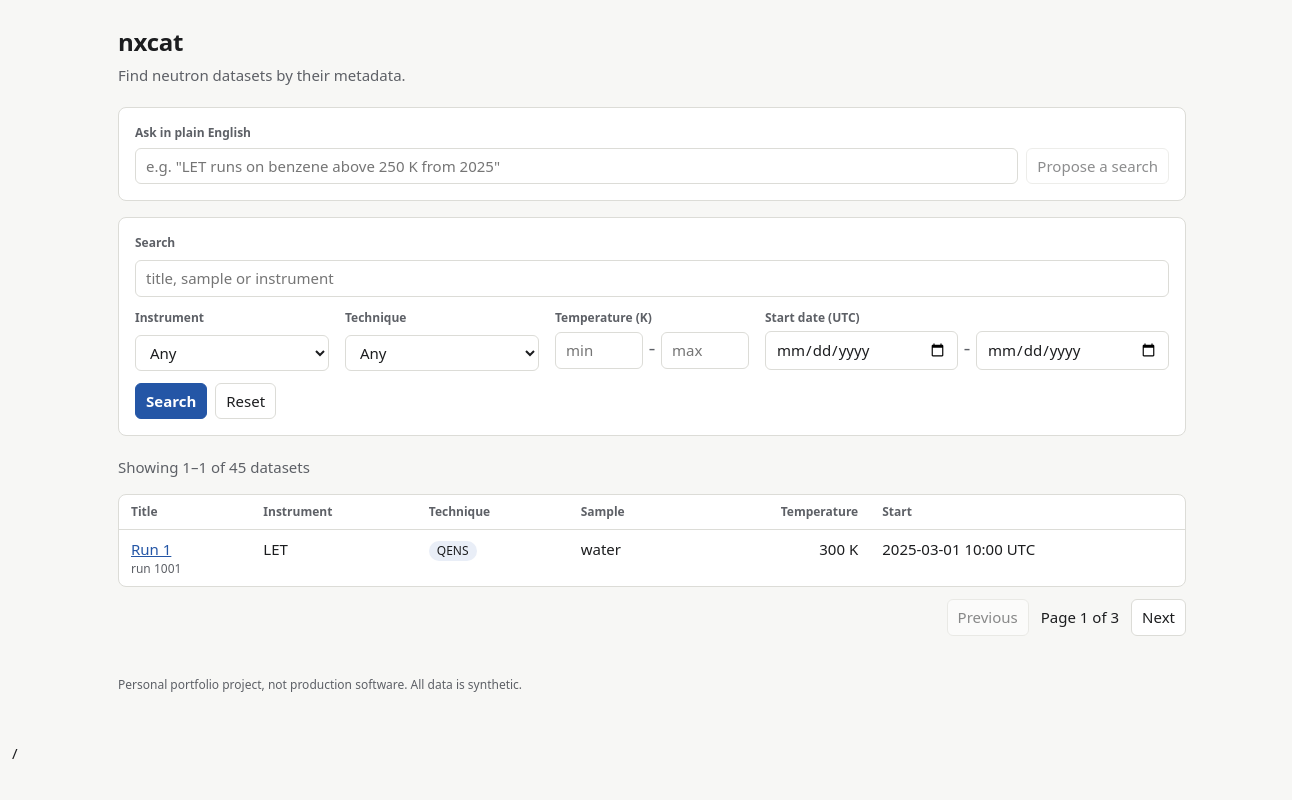
SearchPage › puts applied filters and the page in the address
Expected: the table is shown, [119,494,1185,586]
Type "water" into the search field labelled "Search" at [652, 278], box [135,260,1169,296]
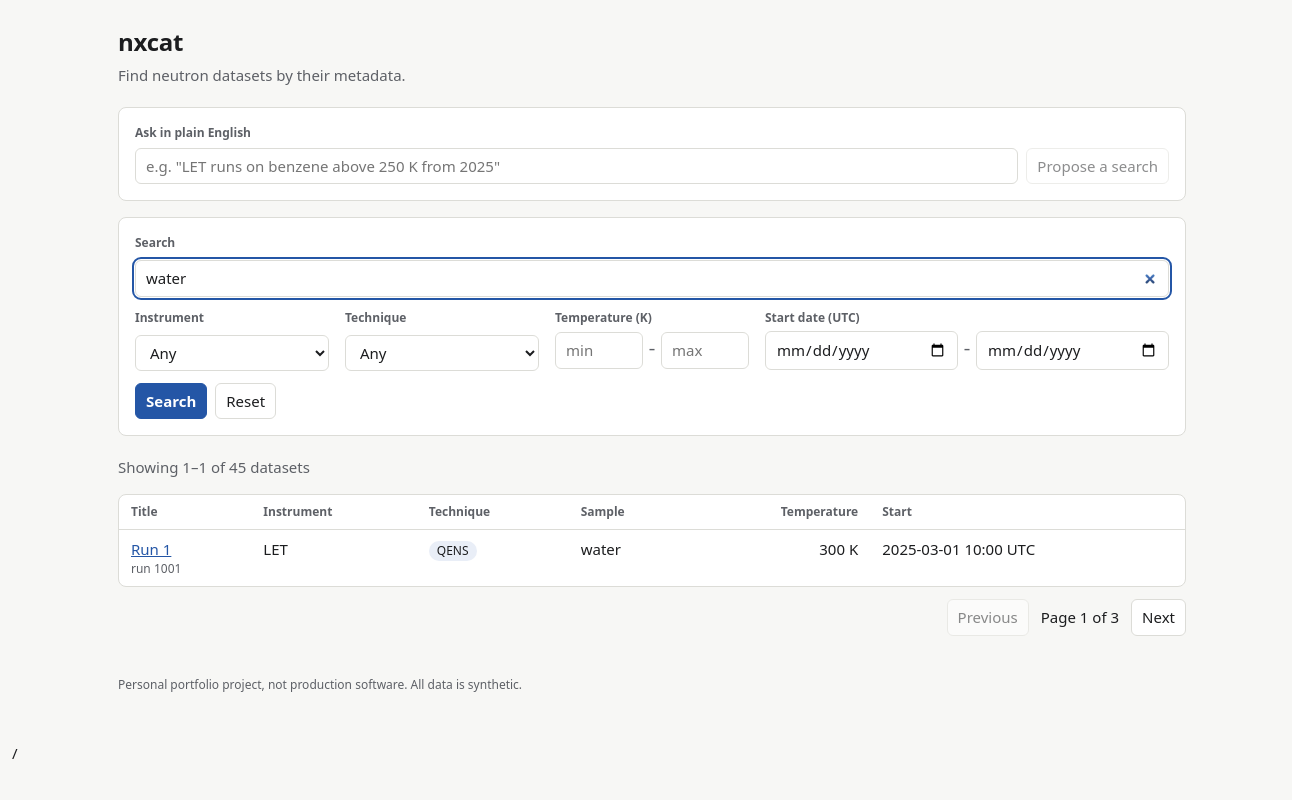
Click the button "Search" at [171, 401], box [135,382,207,419]
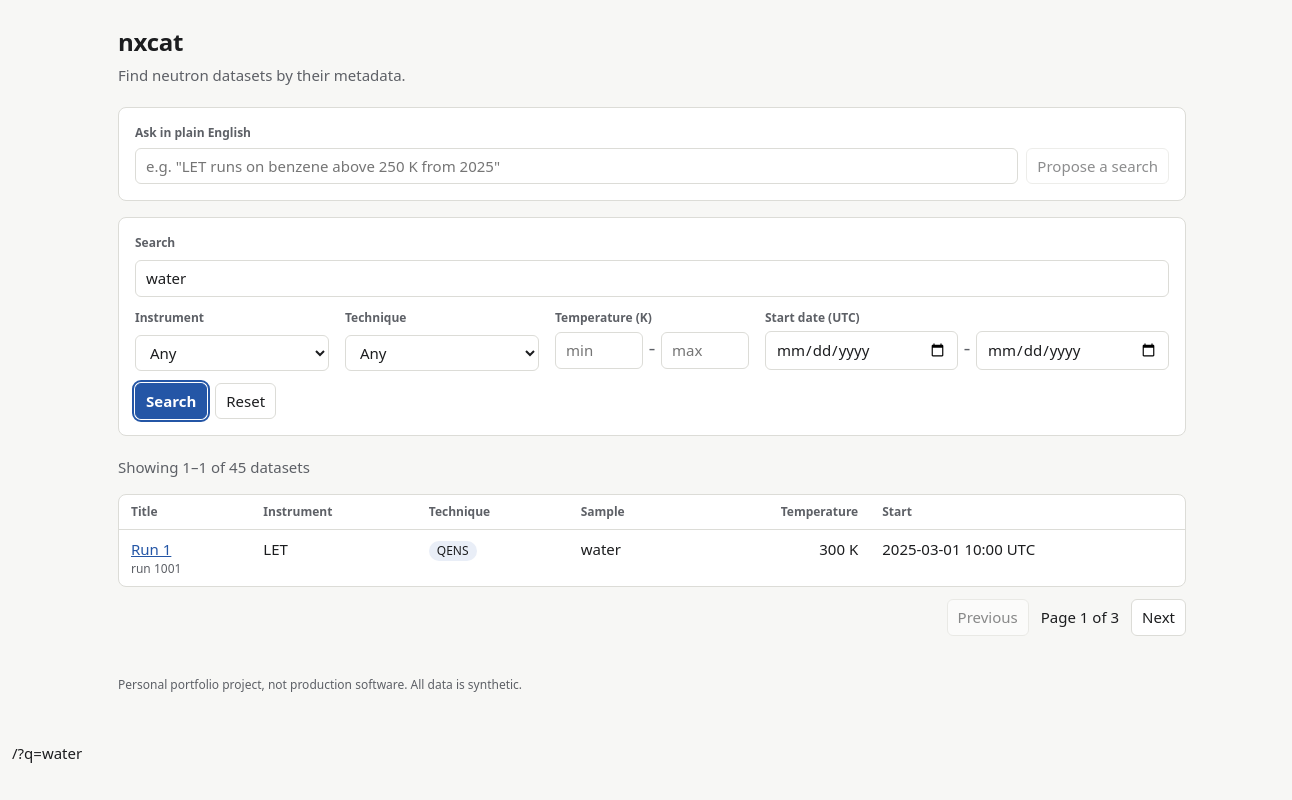
Expected: the text with test id "address" reads "/?q=water", [12,742,82,762]
Click the button "Next" at [1159, 617], box [1131,599,1186,636]
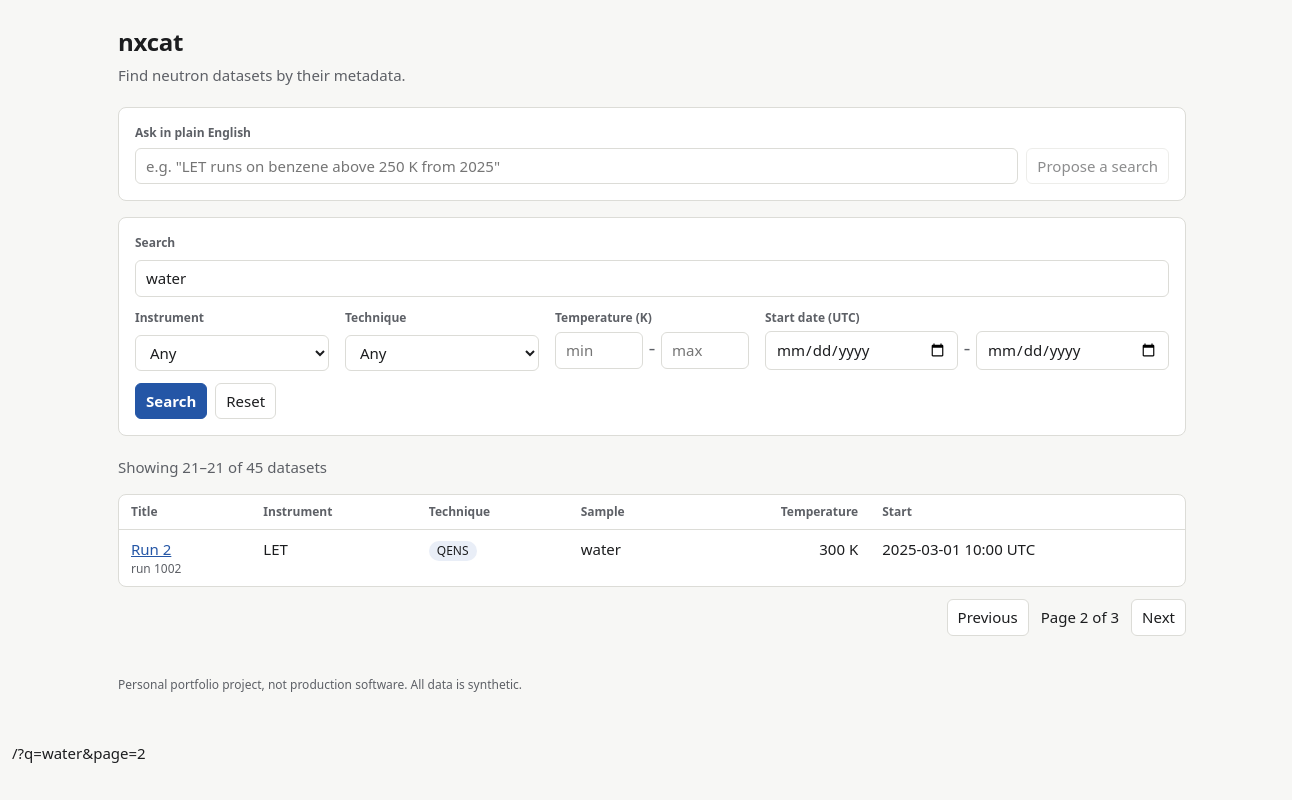
Expected: the text with test id "address" reads "/?q=water&page=2", [12,742,146,762]
